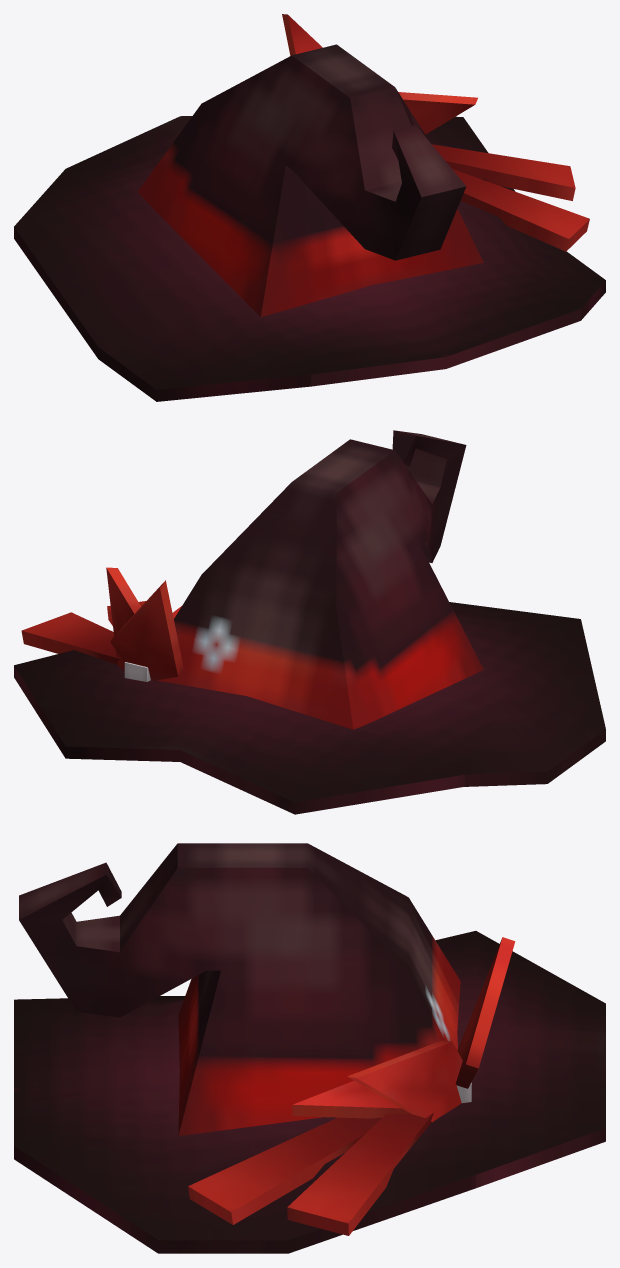
File: sakura_head.glb
The picture shows the model from 3 angles, top to bottom: view 1: azimuth 30°, elevation 25°; view 2: azimuth 150°, elevation 25°; view 3: azimuth 270°, elevation 25°; orthographic projection. The views are drawn at different scales.
Parts seen in each view (by area): view 1: sakura_head; view 2: sakura_head; view 3: sakura_head.
Boxes of the visible parts, box(x1,y1,x2,y2) form: sakura_head: box(14, 14, 605, 401); sakura_head: box(14, 430, 605, 814); sakura_head: box(14, 843, 605, 1253).
Bounding box in the file's own units: 8.33 × 3.96 × 7.69.
1 material, 1 textured.
